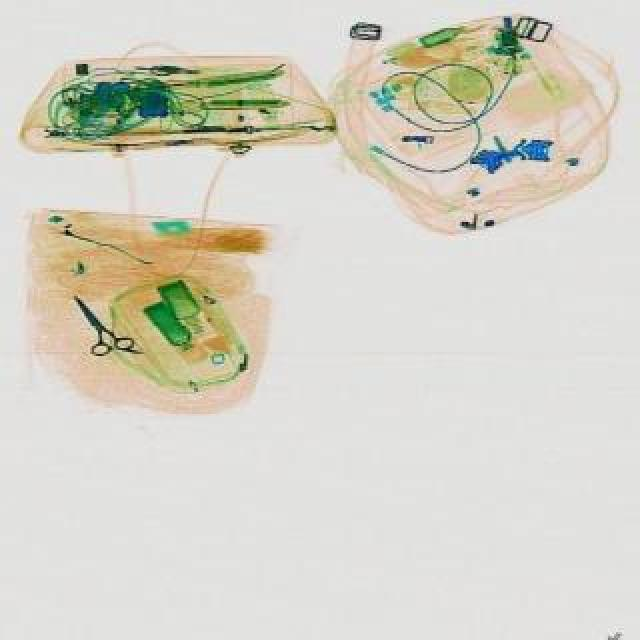pliers: (56, 286, 132, 368)
